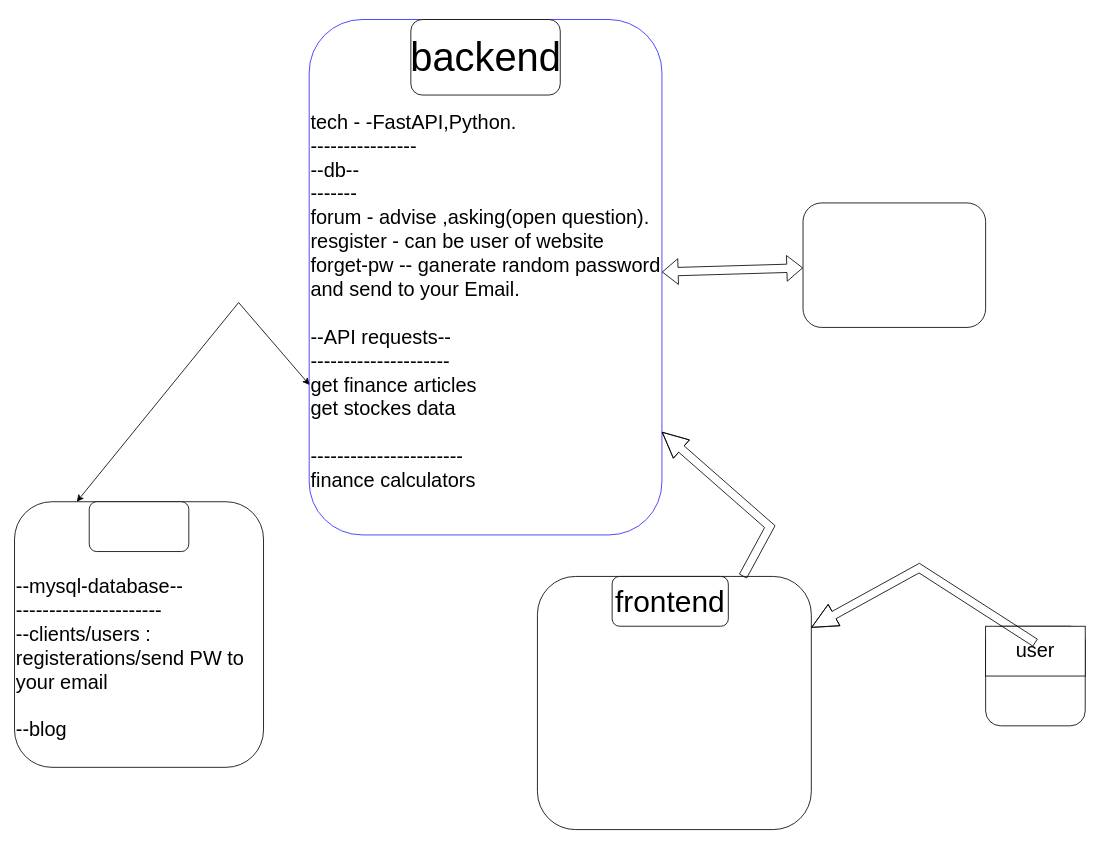
Image size: 1100x844. Some labels were removed from this diagram. The box of each missing label's shape, as (x1, y1, x2, y2) in pixels:
db: (88, 501, 189, 552)
EODHD-API: (802, 202, 986, 327)
UI - React/nodejs , javascript ,html ,css: (537, 576, 811, 830)
